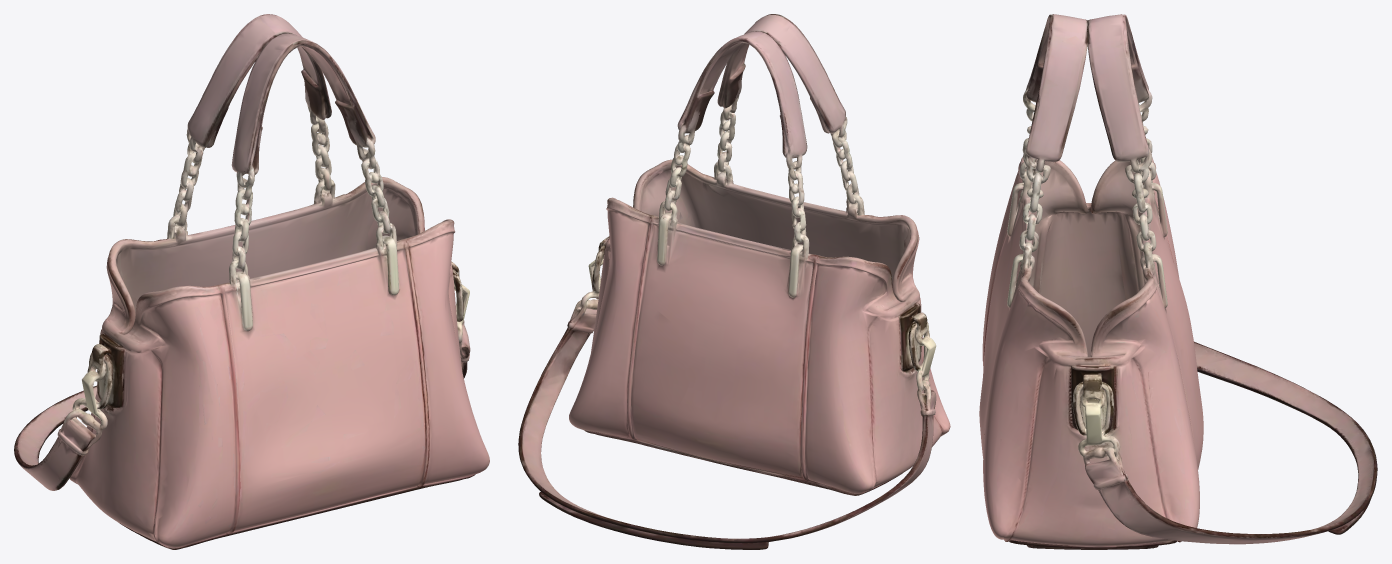
Rendered from tas2a.glb.
The picture shows the model from 3 angles, left to right: view 1: azimuth 30°, elevation 25°; view 2: azimuth 150°, elevation 25°; view 3: azimuth 270°, elevation 25°; orthographic projection. The views are drawn at different scales.
Parts seen in each view (by area): view 1: convert; view 2: convert; view 3: convert.
Boxes of the visible parts, box(x1,y1,x2,y2) form: convert: box(14, 14, 489, 549); convert: box(518, 14, 950, 549); convert: box(979, 14, 1377, 549).
Bounding box in the file's own units: 0.8201 × 0.8748 × 0.6825.
1 material, 1 textured.
